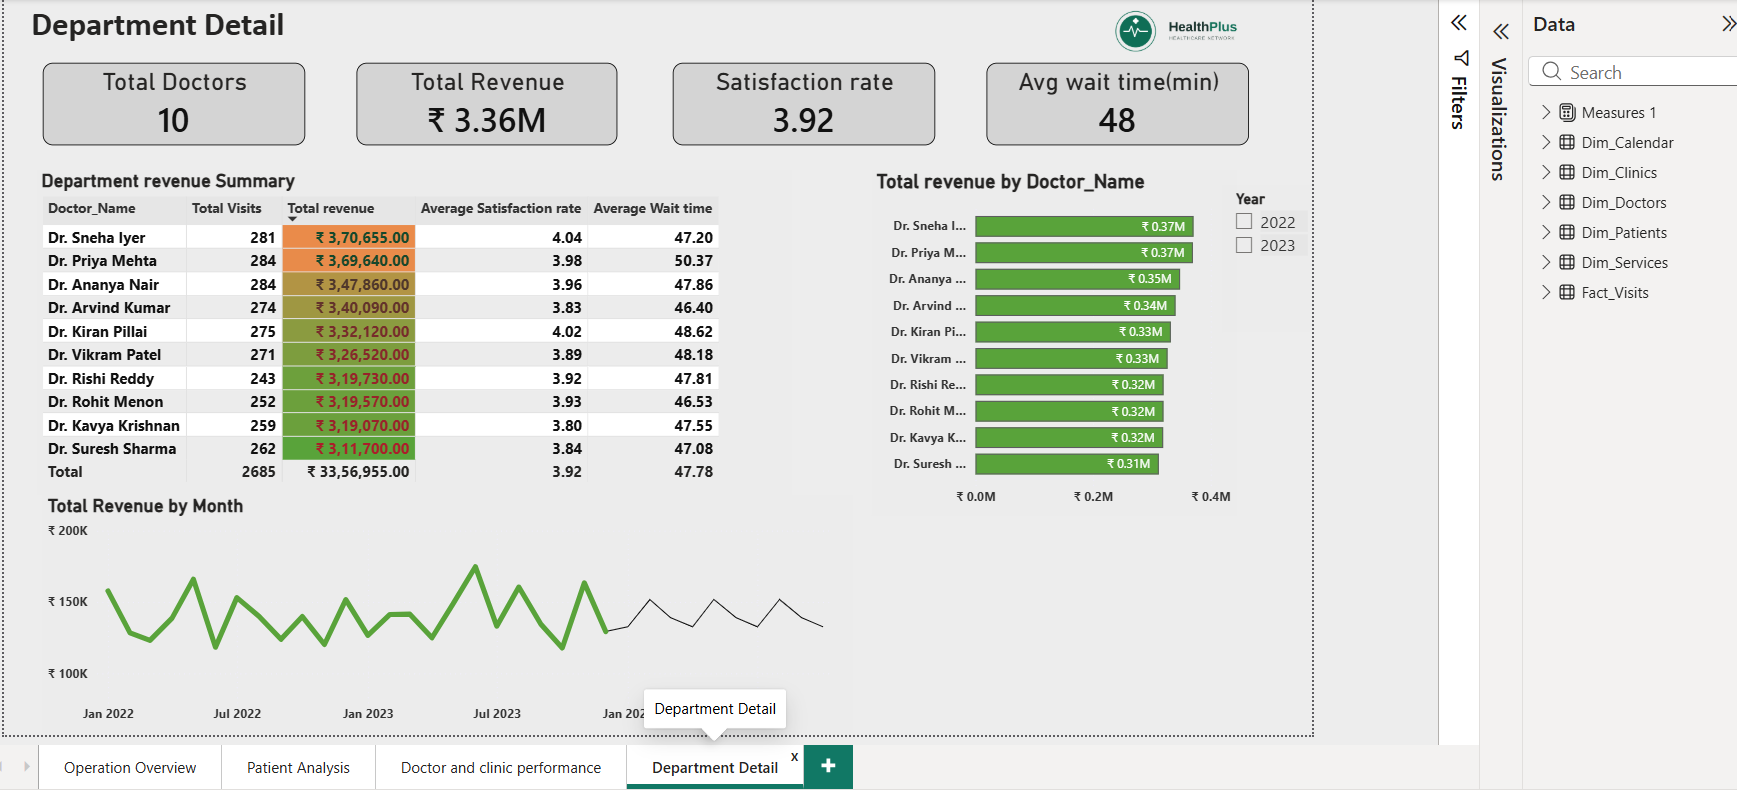

Layout of this report page (visuals, bound fields, positions):
{"tool":"powerbi","page":{"name":"Department Detail","canvas":[1280,720],"ordinal":3},"visuals":[{"type":"slicer","fields":{"Values":["Dim_Calendar.Year"]},"box":[1192.3,182.2,88,144.3],"z":0},{"type":"cardVisual","title":"Satisfaction rate","fields":{"Data":["Fact_Visits.Average Satisfaction rate"]},"box":[654.2,62.4,256.8,80.7],"z":1000},{"type":"cardVisual","title":"Avg wait time(min)","fields":{"Data":["Dim_Doctors.Average Wait time"]},"box":[961.1,62.4,256.8,80.7],"z":2000},{"type":"cardVisual","title":"Total Doctors","fields":{"Data":["Dim_Doctors.Total doctors"]},"box":[37.9,62.4,256.8,80.7],"z":3000},{"type":"cardVisual","title":"Total Revenue","fields":{"Data":["Fact_Visits.Total revenue"]},"box":[344.8,62.4,255.6,80.7],"z":4000},{"type":"tableEx","title":"Department revenue Summary","fields":{"Values":["Dim_Doctors.Doctor_Name","Fact_Visits.Total Visits","Fact_Visits.Total revenue","Fact_Visits.Average Satisfaction rate","Measures 1.Average Wait time"]},"box":[31.8,167.5,738.6,317.9],"z":5000},{"type":"clusteredBarChart","fields":{"Y":["Measures 1.Total revenue"],"Category":["Dim_Doctors.Doctor_Name"]},"box":[848.6,167.5,357.1,337.5],"z":6000},{"type":"textbox","box":[0,0,1079.8,62.4],"z":7000},{"type":"lineChart","title":"Total Revenue by Month","fields":{"Y":["Fact_Visits.Total revenue"],"Category":["Dim_Calendar.Date.Variation.Date Hierarchy.Year","Dim_Calendar.Date.Variation.Date Hierarchy.Month"]},"box":[37.9,485.5,792.4,232.3],"z":8000},{"type":"image","box":[1072.1,0,207.9,63.6],"z":9000}]}

Visuals, with their boxes on the page's 1280x720 design canvas (x1, y1, x2, y2). These are canvas units, not pixel positions in the 1737x790 screenshot, which may show the page scaled, cropped or inside an application window:
slicer - Dim_Calendar.Year: (1192,182,1280,326)
"Satisfaction rate" cardVisual: (654,62,911,143)
"Avg wait time(min)" cardVisual: (961,62,1218,143)
"Total Doctors" cardVisual: (38,62,295,143)
"Total Revenue" cardVisual: (345,62,600,143)
"Department revenue Summary" tableEx: (32,168,770,485)
clusteredBarChart - Measures 1.Total revenue x Dim_Doctors.Doctor_Name: (849,168,1206,505)
textbox: (0,0,1080,62)
"Total Revenue by Month" lineChart: (38,486,830,718)
image: (1072,0,1280,64)
